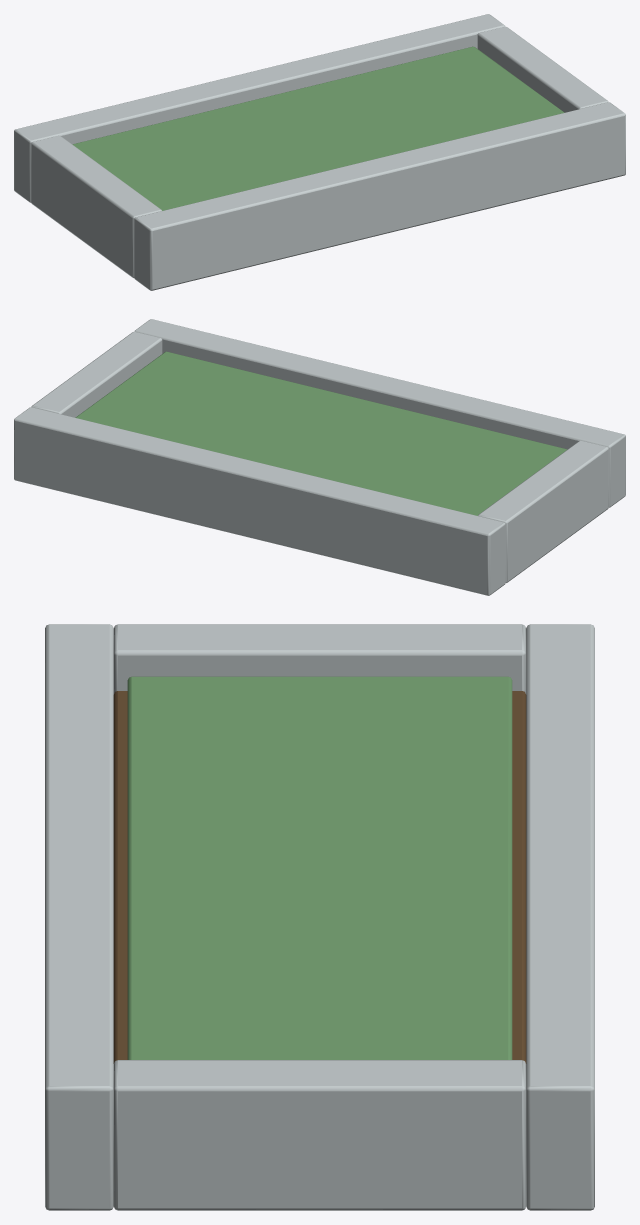
Rendered from MOD_Planter_01.glb.
3 views of the same model, one above another, from view 1: azimuth 30°, elevation 25°; view 2: azimuth 150°, elevation 25°; view 3: azimuth 270°, elevation 25° (orthographic). The views are drawn at different scales.
Visible parts, largest first — view 1: MOD_Planter_01; view 2: MOD_Planter_01; view 3: MOD_Planter_01.
Part boxes in pixels (x1,y1,x2,y2): MOD_Planter_01: (14, 14, 625, 290); MOD_Planter_01: (14, 319, 625, 595); MOD_Planter_01: (45, 624, 594, 1210).
Size of the model in its own units: 4 by 0.5 by 2.
